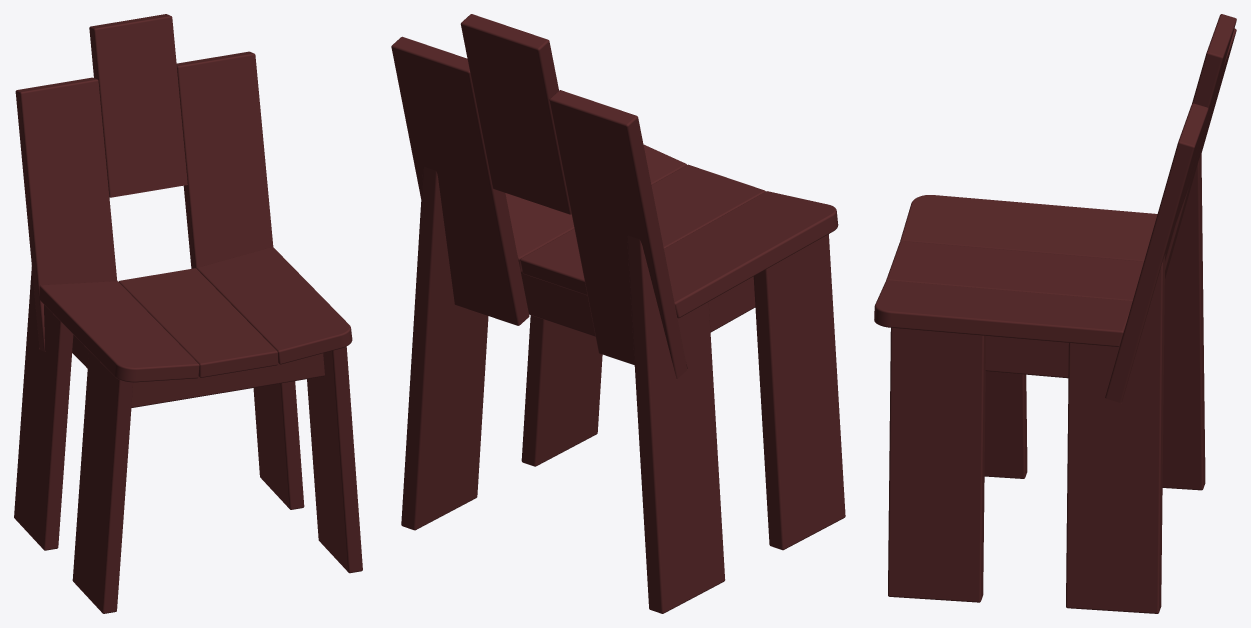
The model's file is winelaq.glb.
The picture shows the model from 3 angles, left to right: view 1: azimuth 30°, elevation 25°; view 2: azimuth 150°, elevation 25°; view 3: azimuth 270°, elevation 25°; orthographic projection. The views are drawn at different scales.
Parts seen in each view (by area): view 1: Brep.090, Brep.092, Brep.091, Brep.094, Brep.093, Brep.136, Brep.089, Brep.100, Brep.088, Brep.095, Brep.096; view 2: Brep.093, Brep.094, Brep.095, Brep.090, Brep.092, Brep.091, Brep.089, Brep.088, Brep.100, Brep.136, Brep.099, Brep.098; view 3: Brep.095, Brep.088, Brep.089, Brep.136, Brep.093, Brep.100, Brep.092, Brep.094, Brep.097, Brep.091, Brep.090.
Boxes of the visible parts, x1,y1,x2,y2 form: Brep.090: (15,77,117,351); Brep.092: (176,51,273,268); Brep.091: (89,14,187,197); Brep.094: (72,351,133,613); Brep.093: (14,266,73,550); Brep.136: (197,247,352,364); Brep.089: (39,281,199,382); Brep.100: (118,268,277,377); Brep.088: (307,346,362,573); Brep.095: (253,381,304,509); Brep.096: (131,353,324,407); Brep.093: (627,235,725,613); Brep.094: (753,234,845,550); Brep.095: (401,166,488,530); Brep.090: (549,90,687,378); Brep.092: (391,36,529,325); Brep.091: (460,14,571,214); Brep.089: (664,191,838,318); Brep.088: (521,315,602,466); Brep.100: (520,164,765,295); Brep.136: (505,144,686,272); Brep.099: (521,271,595,336); Brep.098: (708,276,755,332); Brep.095: (1066,254,1165,613); Brep.088: (888,328,985,602); Brep.089: (900,195,1157,261); Brep.136: (874,280,1132,346); Brep.093: (1162,153,1205,490); Brep.100: (886,241,1143,300); Brep.092: (1105,103,1208,402); Brep.094: (984,371,1027,478); Brep.097: (985,336,1068,378); Brep.091: (1176,14,1236,221); Brep.090: (1165,28,1236,278).
Bounding box in the file's own units: 0.5385 × 0.8791 × 0.5575.
